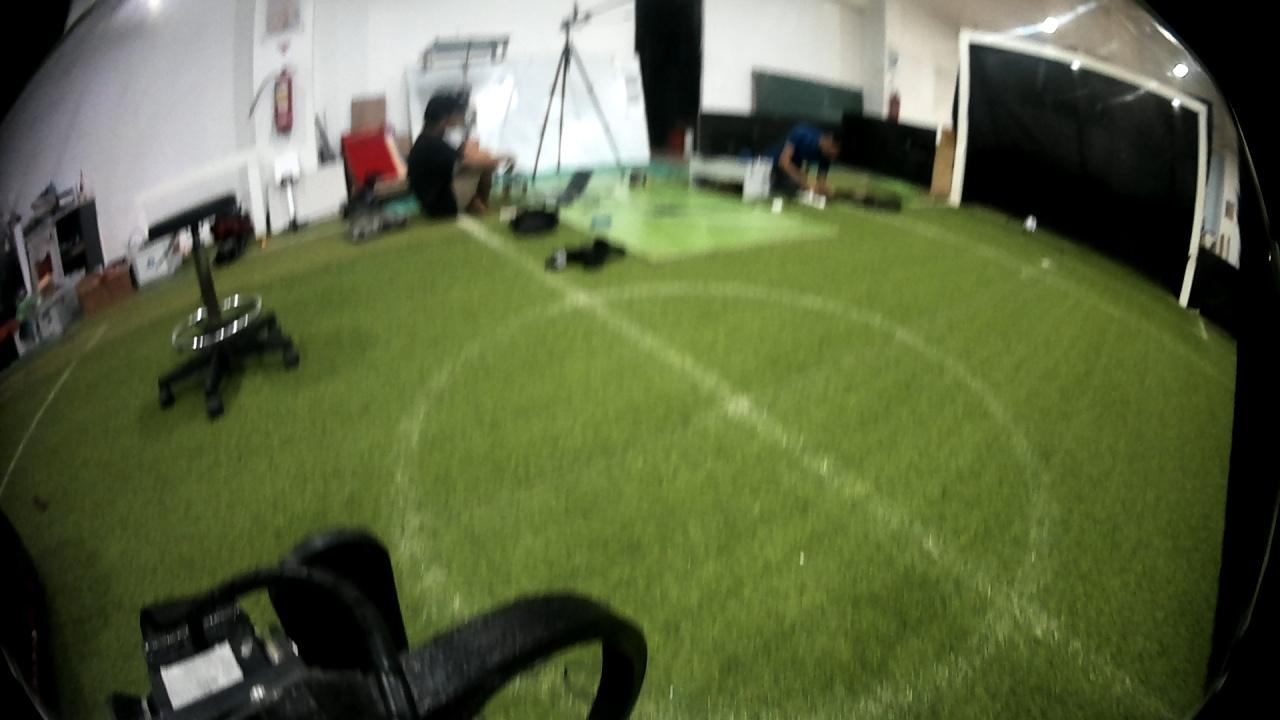ball: (1020, 212, 1041, 237)
